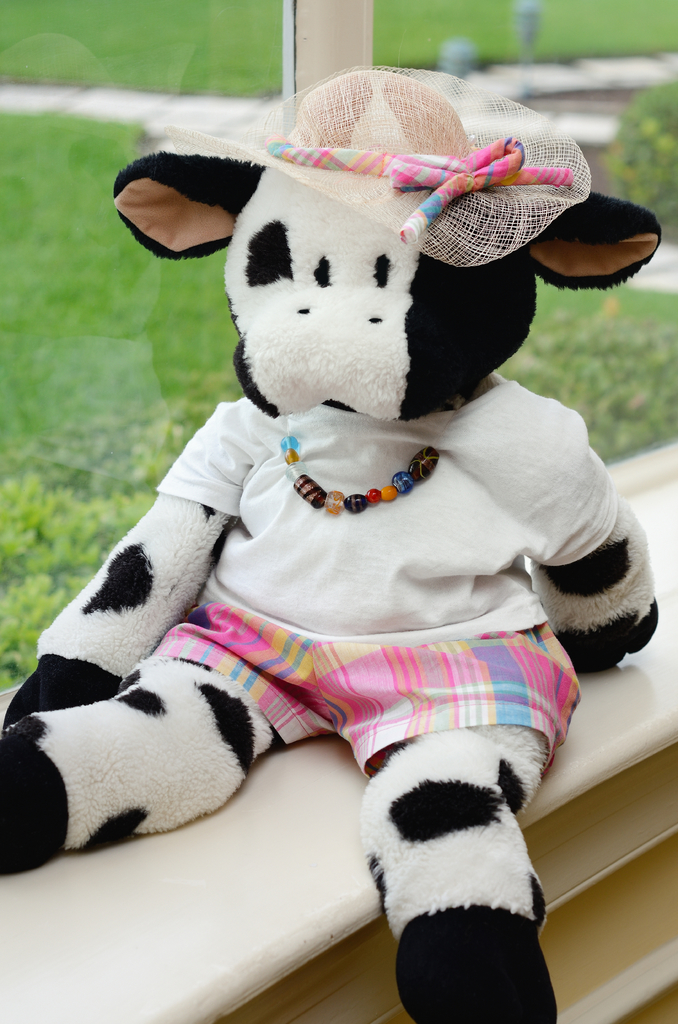Animal: (0, 68, 658, 1022)
